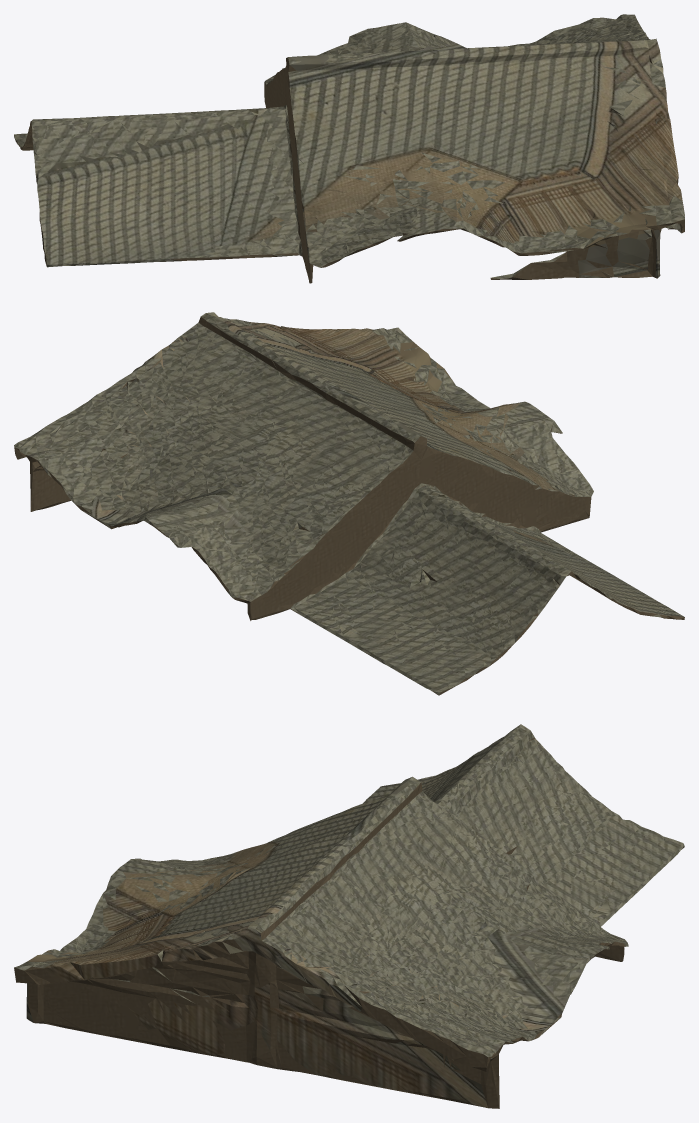
3 views of the same model, one above another, from view 1: azimuth 30°, elevation 25°; view 2: azimuth 150°, elevation 25°; view 3: azimuth 270°, elevation 25° (orthographic). The views are drawn at different scales.
Parts seen in each view (by area): view 1: painted, roof, wall; view 2: roof, painted, wall; view 3: roof, painted, wall.
Part boxes in pixels (<box>): painted: <box>37,38,682,277</box>; roof: <box>14,14,684,278</box>; wall: <box>14,37,684,283</box>; roof: <box>14,313,662,695</box>; painted: <box>82,312,683,637</box>; wall: <box>14,316,684,695</box>; roof: <box>14,724,684,1058</box>; painted: <box>26,755,611,1107</box>; wall: <box>14,738,684,1108</box>.
Bounding box in the file's own units: 18.85 × 3.9 × 16.09.
3 materials, 3 textured.
